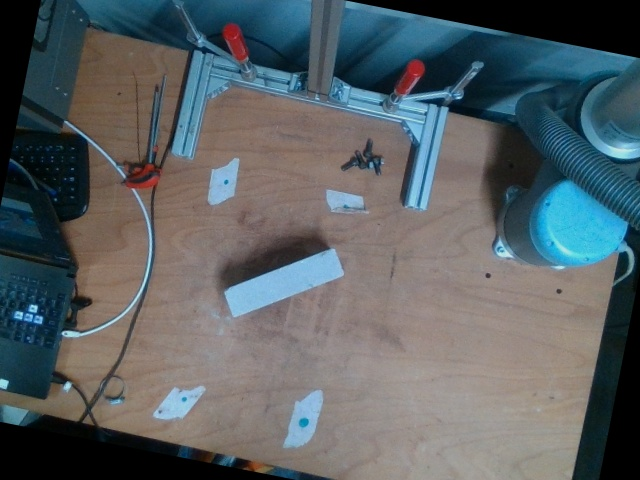brick-side: (224, 248, 345, 319)
